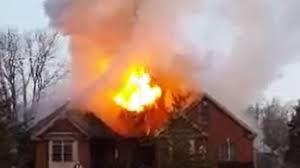fire: (108, 59, 165, 113)
